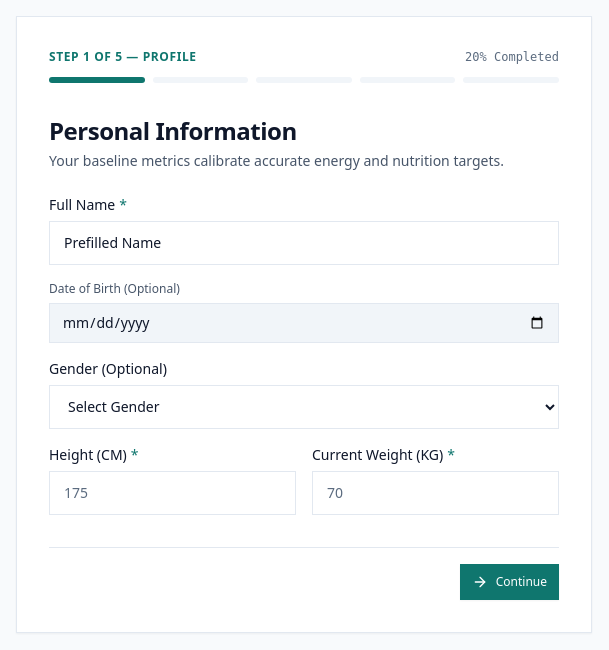
Test: OnboardingPage Wizard › validates goal direction in step 2 (fat loss target must be below current weight)
Weight 80 kg
Type "180" into the number field labelled "Height (CM)*" at (172, 492), box x1=49 y1=470 x2=296 y2=514
Type "80" into the number field labelled "Current Weight (KG)*" at (436, 492), box x1=312 y1=470 x2=559 y2=514
Click the button "Continue" at (509, 582), box x1=460 y1=564 x2=559 y2=600
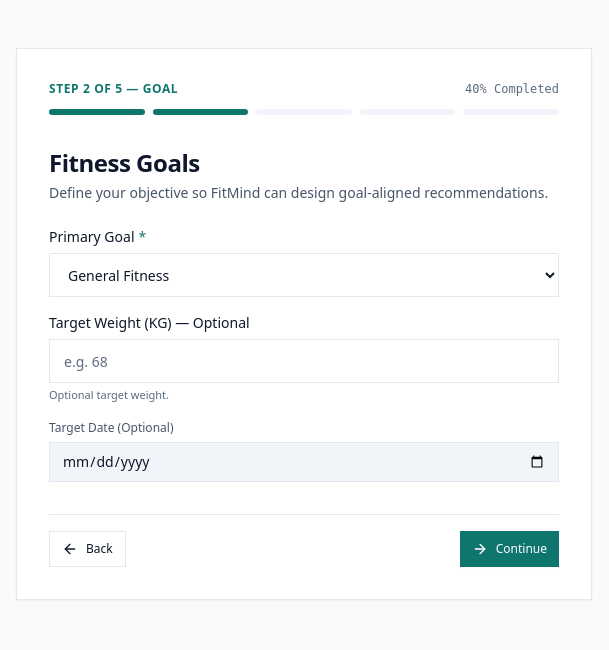
Now the heading "Fitness Goals" is shown, box x1=49 y1=146 x2=200 y2=179
Select "Fat Loss" in the dropdown labelled "Primary Goal*" at (304, 275), box x1=49 y1=253 x2=559 y2=297
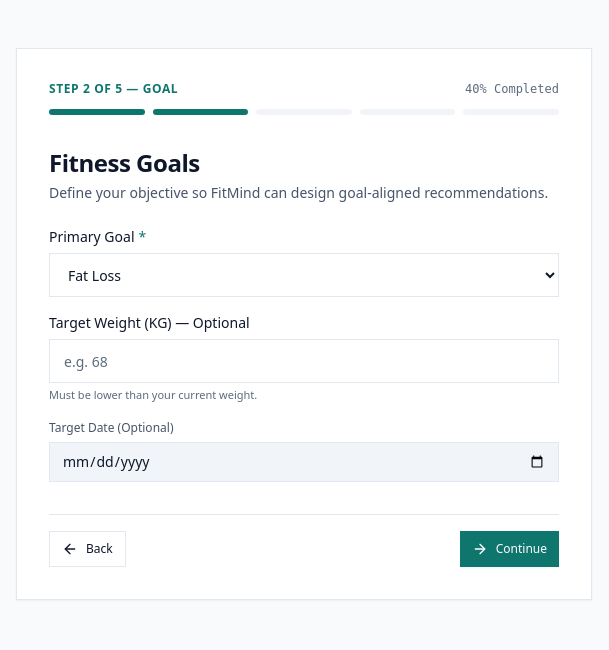
Type "85" into the number field labelled "Target Weight (KG) — Optional" at (304, 361), box x1=49 y1=339 x2=559 y2=383
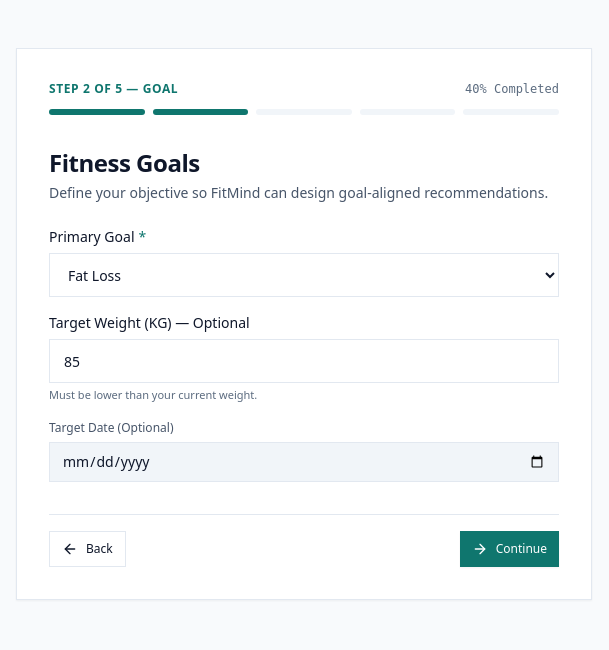
Click the button "Continue" at (509, 549), box x1=460 y1=531 x2=559 y2=567
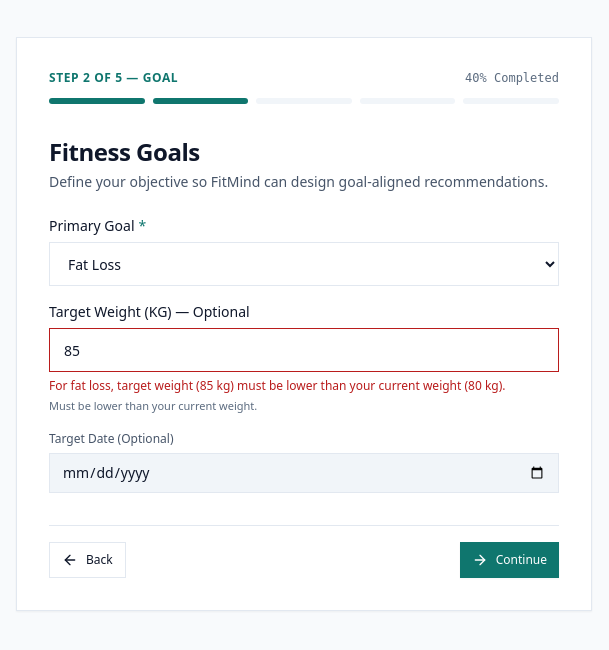
Now the text "For fat loss, target weight" is shown, box x1=49 y1=377 x2=506 y2=394
Fix target weight to valid (75 kg)
Replace the text in the number field labelled "Target Weight (KG) — Optional" with "75" at (304, 350), box x1=49 y1=328 x2=559 y2=372
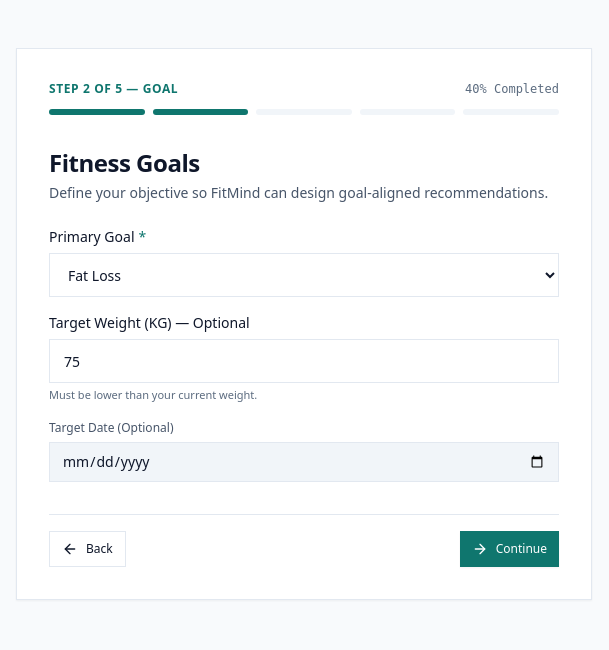
Click the button "Continue" at (509, 549), box x1=460 y1=531 x2=559 y2=567
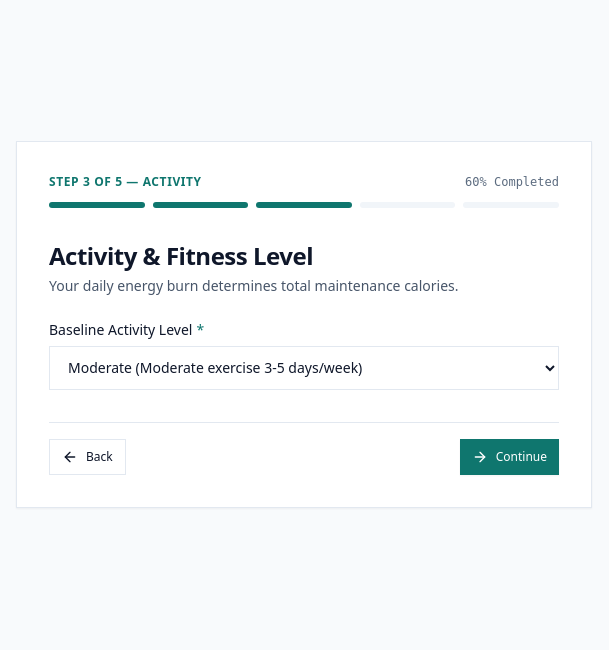
Now the heading "Activity & Fitness Level" is shown, box x1=49 y1=238 x2=313 y2=272
